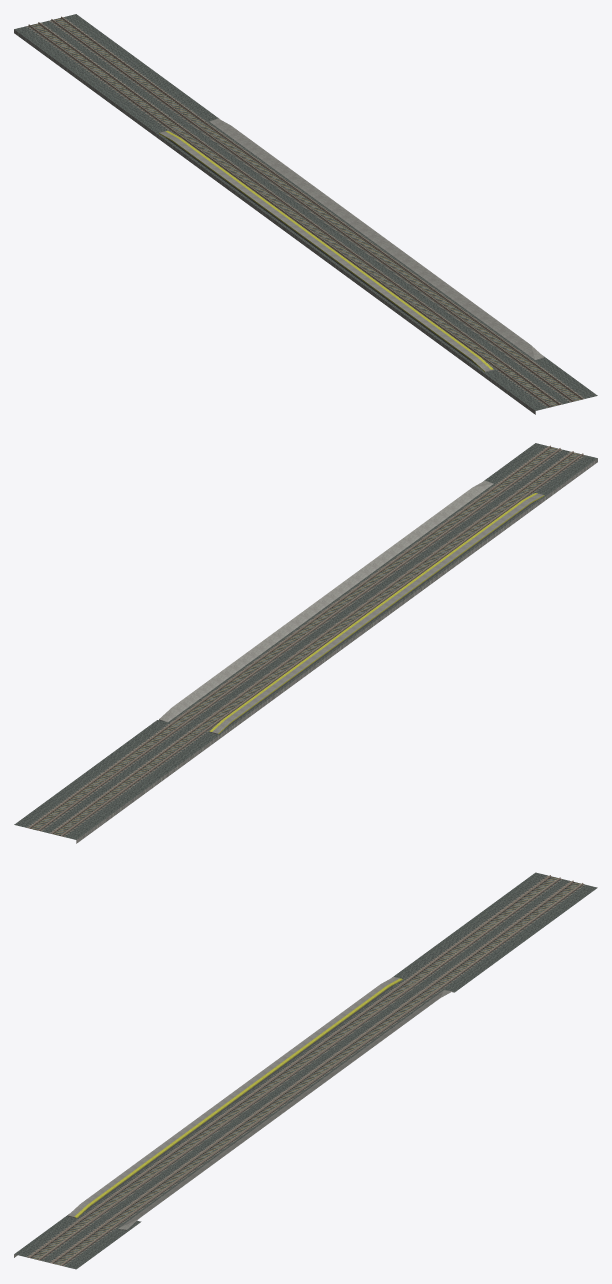
Rendered from vgsrailroad04.obj.
3 renders of one model, top to bottom at view 1: azimuth 30°, elevation 25°; view 2: azimuth 150°, elevation 25°; view 3: azimuth 330°, elevation 25°, orthographic.
Parts seen in each view (by area): view 1: vgsrailroad04; view 2: vgsrailroad04; view 3: vgsrailroad04.
Part boxes in pixels (x1,y1,x2,y2): vgsrailroad04: (14,14,597,414); vgsrailroad04: (14,443,597,843); vgsrailroad04: (14,872,597,1269).
Size of the model in its own units: 11.05 by 1.23 by 160.
Materials: 7 (7 with a texture image).
